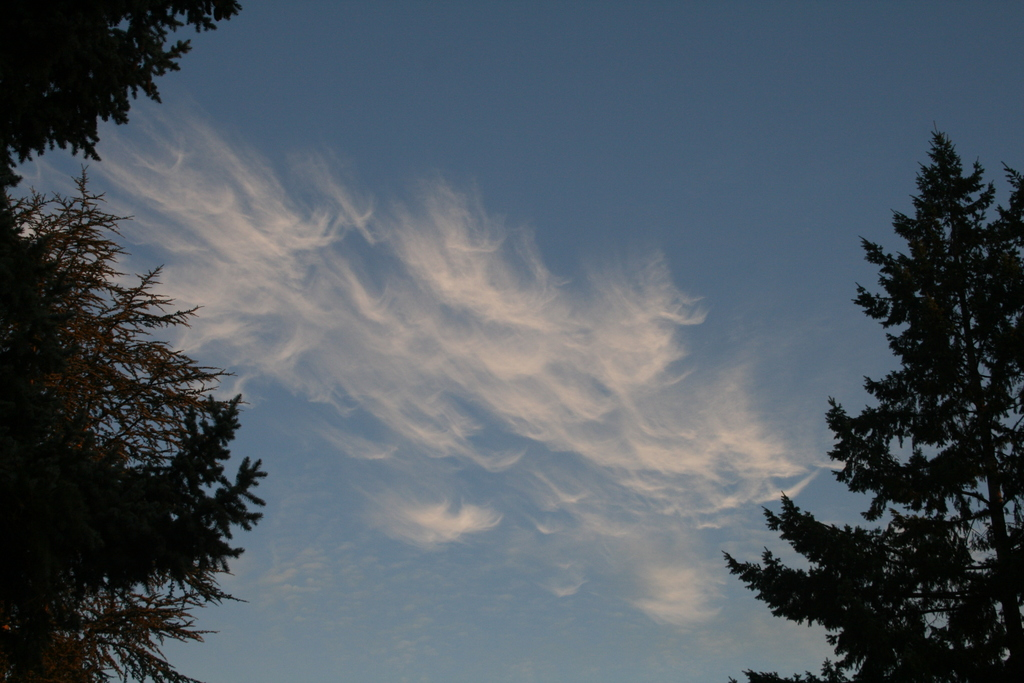Tree: (0, 169, 271, 682), (783, 117, 1015, 663), (0, 0, 245, 187)
